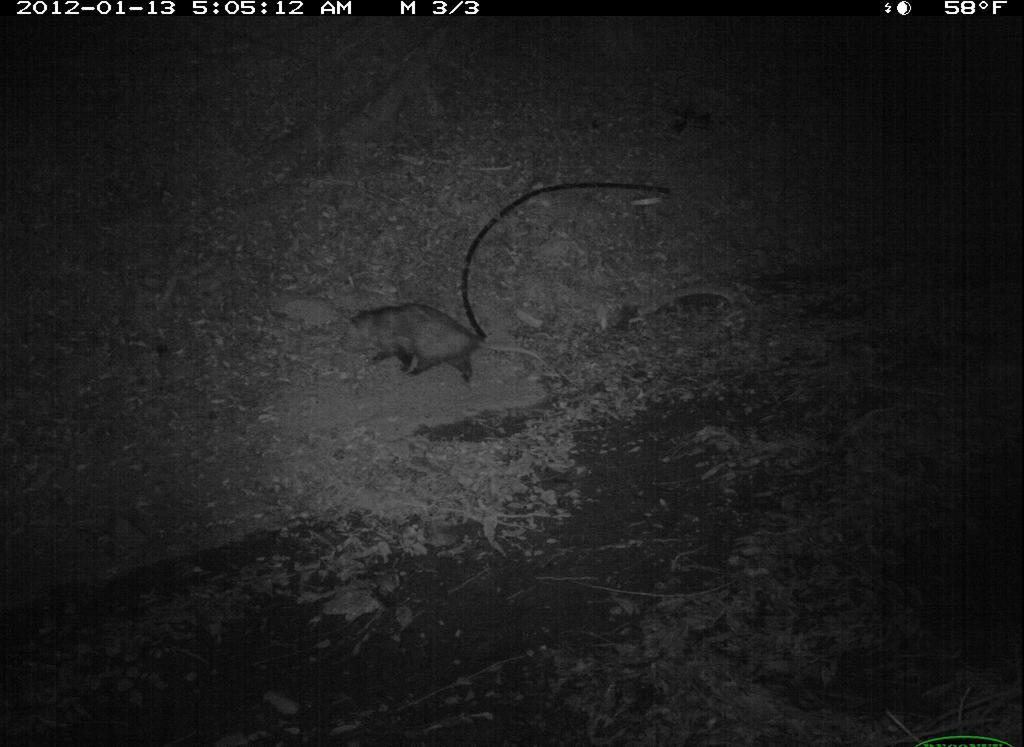opossum: (336, 297, 552, 388)
